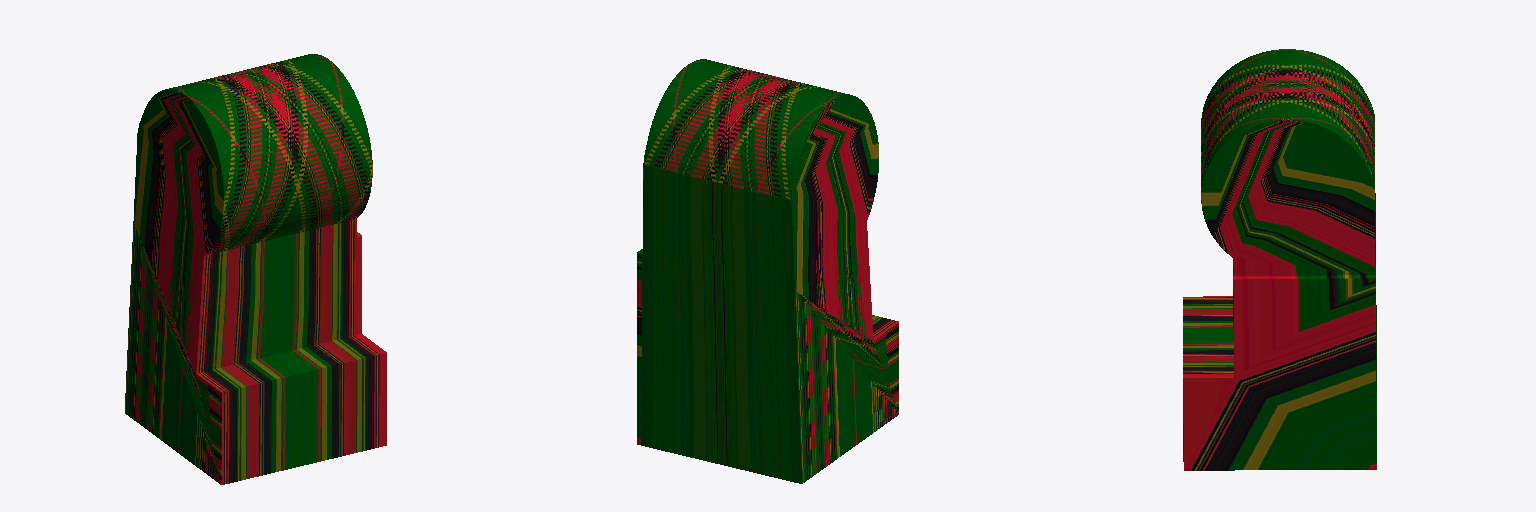
3 renders of one model, left to right at view 1: azimuth 30°, elevation 25°; view 2: azimuth 150°, elevation 25°; view 3: azimuth 270°, elevation 25°, orthographic.
Visible parts, largest first — view 1: PieDerecho; view 2: PieDerecho; view 3: PieDerecho.
Part boxes in pixels (bbox=[...]): PieDerecho: bbox=[125, 54, 386, 484]; PieDerecho: bbox=[637, 59, 898, 483]; PieDerecho: bbox=[1183, 49, 1376, 470].
Bounding box in the file's own units: 1.11 × 2.22 × 1.12.
1 materials, 1 textured.